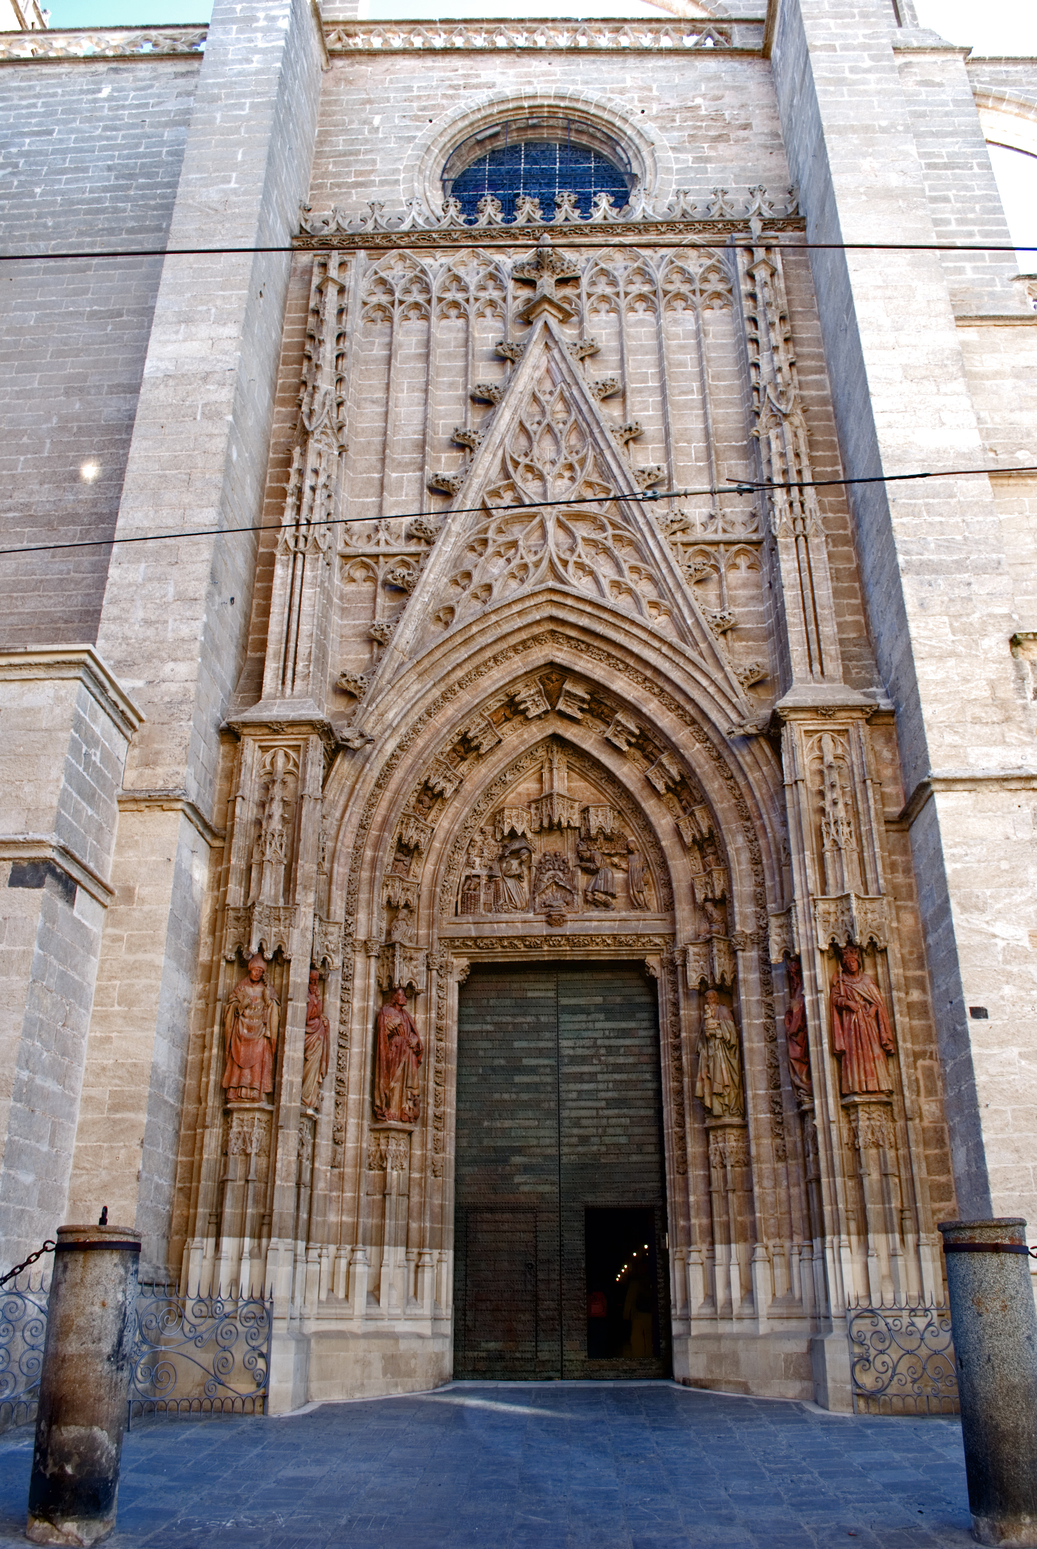arco-apuntado: (341, 576, 767, 920)
